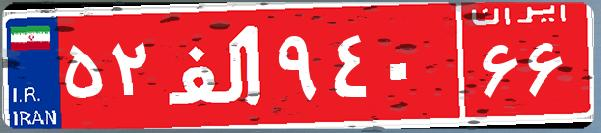0: (385, 28, 445, 110)
2: (110, 28, 158, 105)
4: (330, 28, 385, 110)
5: (57, 26, 110, 107)
6: (475, 38, 525, 113), (525, 38, 570, 115)
9: (273, 28, 330, 110)
الف: (158, 15, 273, 115)
